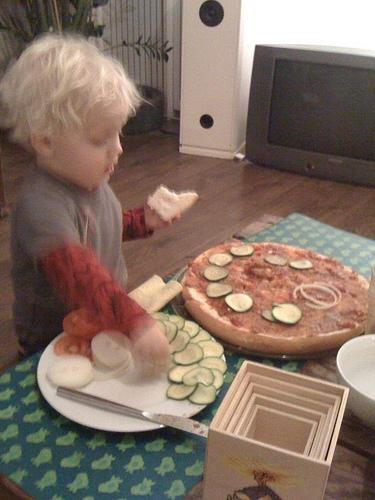cucumber: (173, 342, 204, 366), (168, 363, 200, 385), (272, 302, 303, 324), (182, 366, 214, 386), (188, 383, 217, 405), (224, 292, 253, 312), (198, 356, 229, 374), (170, 330, 192, 355), (197, 340, 224, 359), (166, 383, 196, 400), (204, 282, 233, 298), (203, 266, 229, 283), (162, 320, 178, 345), (181, 320, 200, 338), (230, 244, 254, 257), (190, 330, 212, 344), (264, 254, 288, 266), (212, 368, 224, 391), (168, 315, 186, 329), (261, 309, 279, 323), (290, 260, 313, 270), (154, 319, 167, 336), (214, 254, 232, 266), (150, 312, 169, 321)
onion: (46, 355, 92, 388), (90, 352, 132, 378), (294, 284, 336, 309), (300, 282, 342, 306), (111, 352, 135, 379)
tomato: (54, 332, 98, 362), (62, 307, 99, 337)
